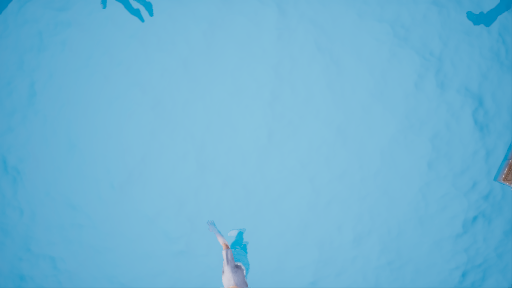person: (202, 220, 254, 288)
